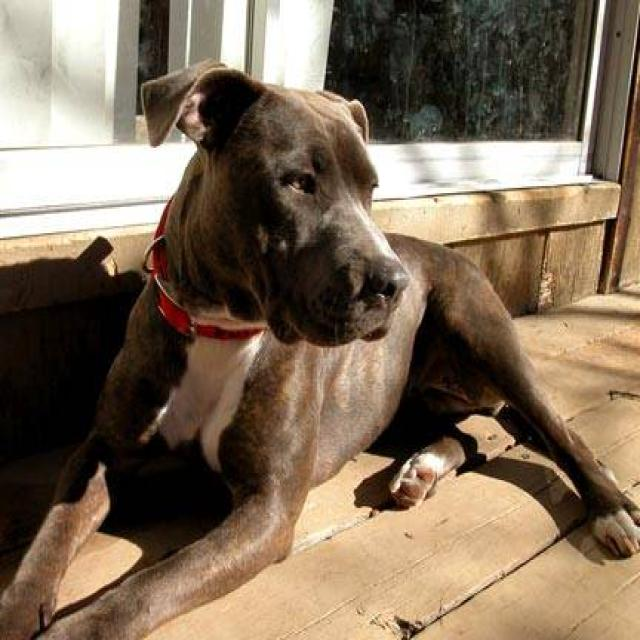Dog: (136, 54, 415, 355)
